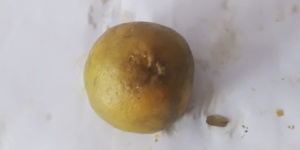BAD: (83, 19, 194, 133)
